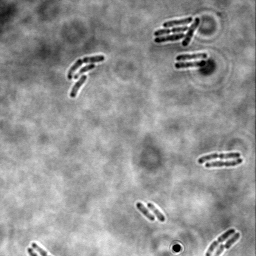Dividing: (205, 227, 236, 255), (197, 152, 242, 165), (204, 158, 244, 168), (174, 52, 208, 62)
Microcolony: (66, 53, 106, 99), (152, 16, 201, 48)
Rod: (147, 201, 166, 223), (135, 202, 156, 221), (174, 60, 206, 70), (224, 232, 241, 250)
